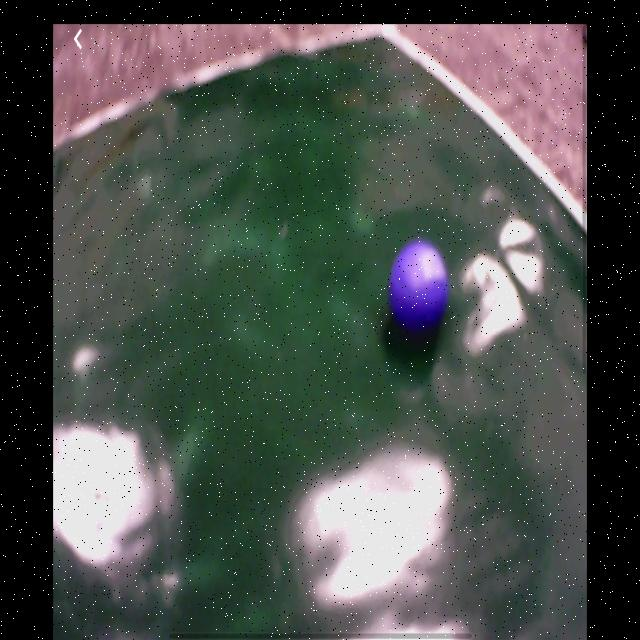ball: (390, 241, 449, 332)
